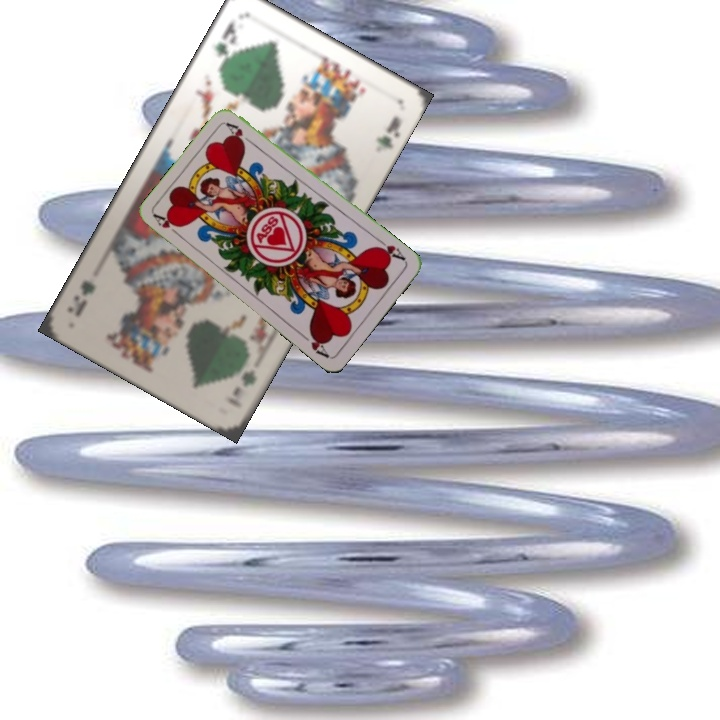GK: (210, 16, 240, 71), (228, 365, 260, 399)
HA: (150, 210, 185, 241), (371, 234, 408, 263)
